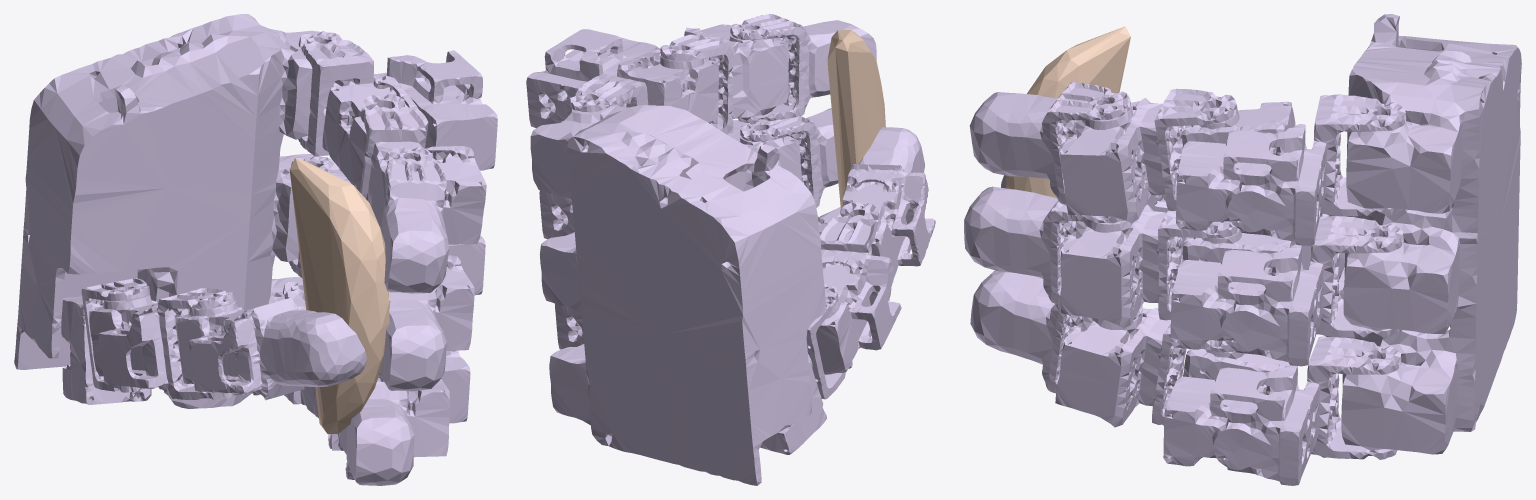
The picture shows the model from 3 angles, left to right: view 1: azimuth 30°, elevation 25°; view 2: azimuth 150°, elevation 25°; view 3: azimuth 270°, elevation 25°; orthographic projection. The views are drawn at different scales.
Visible parts, largest first — view 1: LEAP_hand, world; view 2: LEAP_hand, world; view 3: LEAP_hand, world.
Boxes of the visible parts, x1,y1,x2,y2 form: LEAP_hand: (14,14,497,485); world: (289,157,389,433); LEAP_hand: (526,14,935,485); world: (827,30,885,208); LEAP_hand: (964,14,1521,485); world: (1006,26,1130,278).
Bounding box in the file's own units: 0.1445 × 0.1288 × 0.1809.
